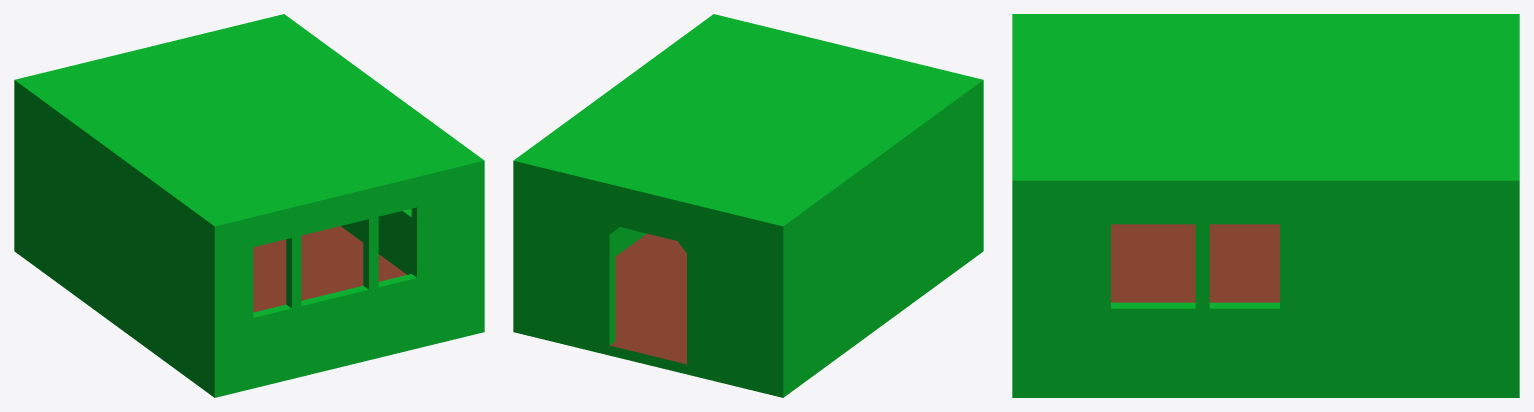
3 renders of one model, left to right at view 1: azimuth 30°, elevation 25°; view 2: azimuth 150°, elevation 25°; view 3: azimuth 270°, elevation 25°, orthographic. The views are drawn at different scales.
Visible parts, largest first — view 1: kek1; view 2: kek1; view 3: kek1.
Boxes of the visible parts, <box> form: kek1: <box>14,14,484,397</box>; kek1: <box>513,14,983,397</box>; kek1: <box>1012,14,1519,397</box>.
Size of the model in its own units: 700 by 425 by 900.
